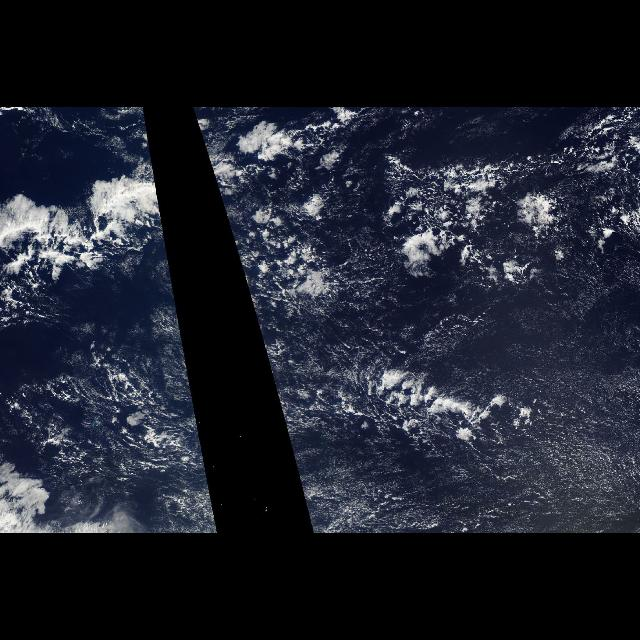Fish: (0, 161, 174, 281), (210, 160, 224, 206)
Sugar: (260, 296, 638, 524)
